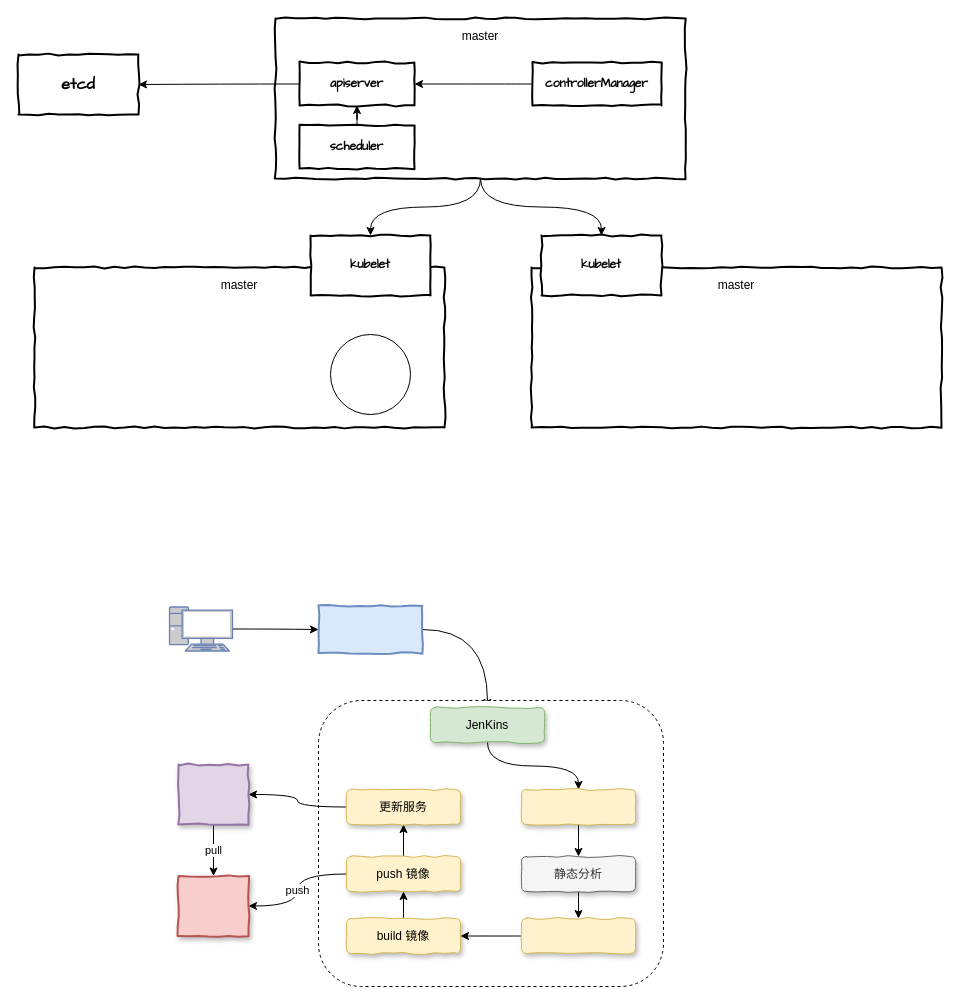
The diagram is 959 pixels wide and 1004 high, and some of its shapes have lost their labels. Here are the shapes that lost their labels. From the top down, the centre of each, then its label:
(x=370, y=374): pod
(x=370, y=629): GitLib
(x=214, y=795): k8s
(x=579, y=808): maven 构建
(x=214, y=907): harbor
(x=579, y=937): 单元测试
